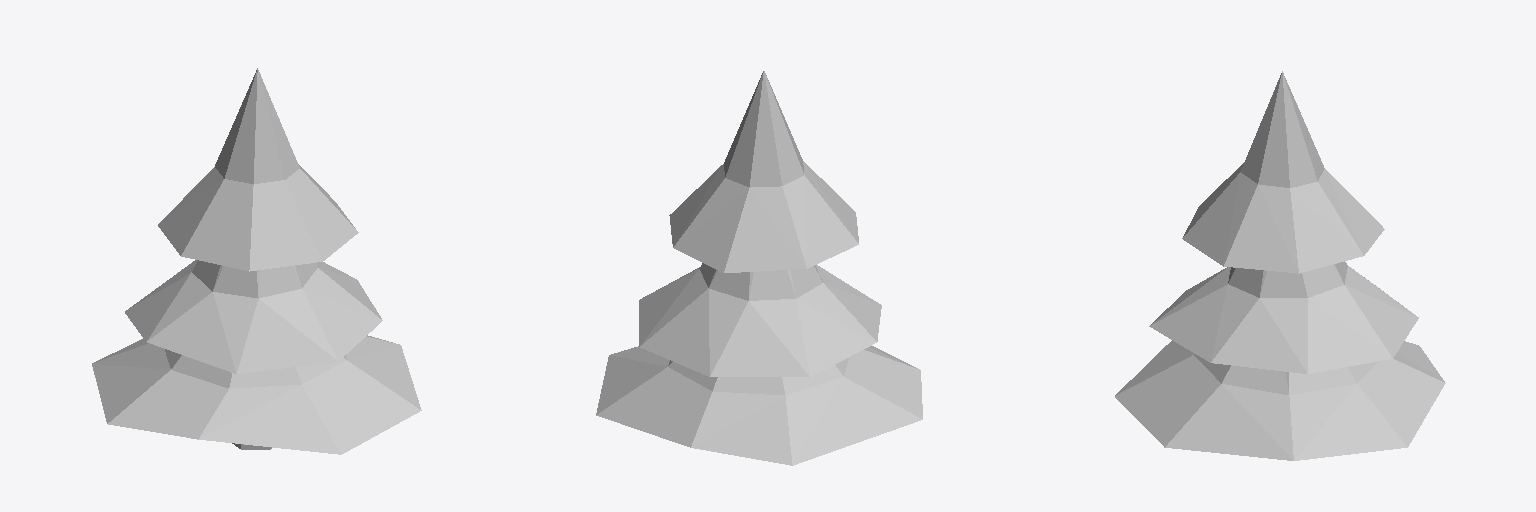
Rendered from ChristmasTree.obj.
The picture shows the model from 3 angles: view 1: azimuth 30°, elevation 25°; view 2: azimuth 150°, elevation 25°; view 3: azimuth 270°, elevation 25°; orthographic projection.
Parts seen in each view (by area): view 1: ChristmasTree; view 2: ChristmasTree; view 3: ChristmasTree.
Part boxes in pixels (x1,y1,x2,y2): ChristmasTree: (92, 68, 421, 454); ChristmasTree: (596, 71, 922, 465); ChristmasTree: (1115, 71, 1445, 460).
Size of the model in its own units: 5.28 by 6.2 by 4.99.